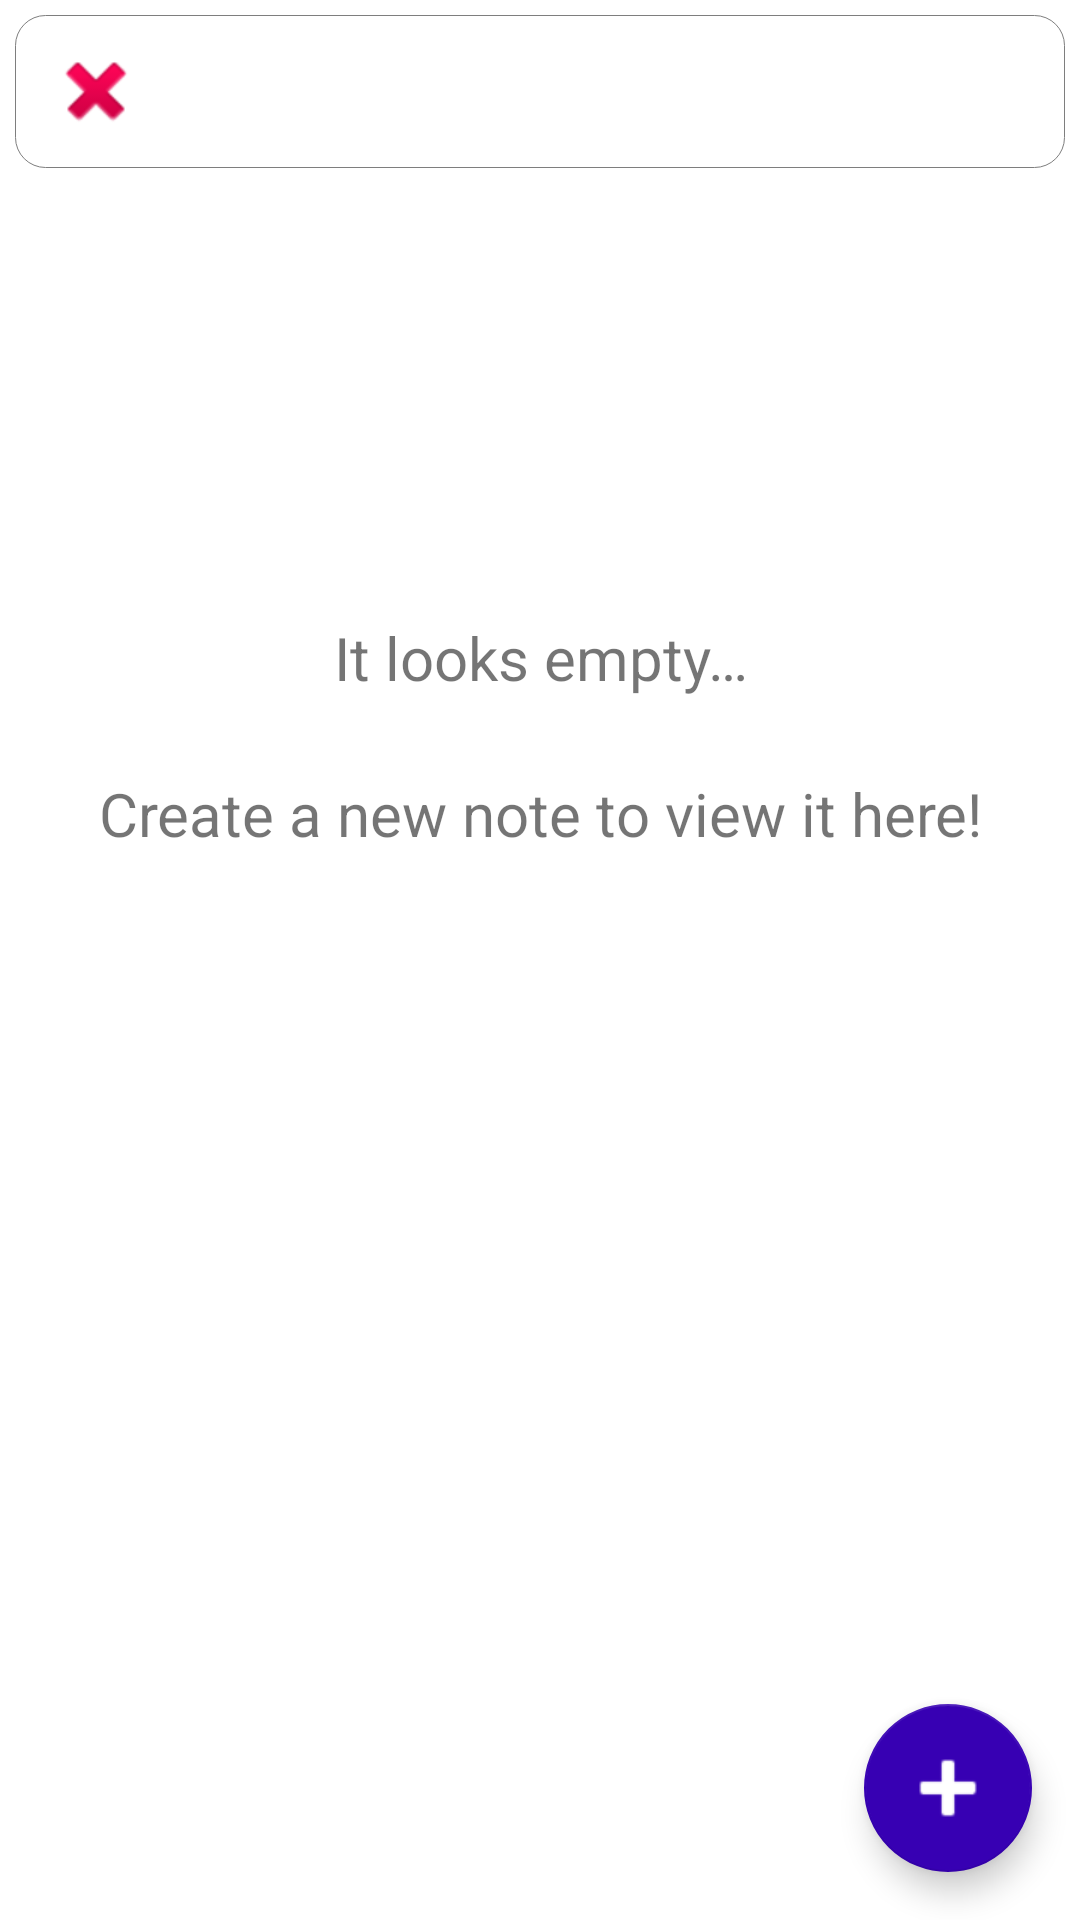

Point at icon controls on the screen. Image size 1080px x 1920px, points as [x,y].
add: [948,1788]
